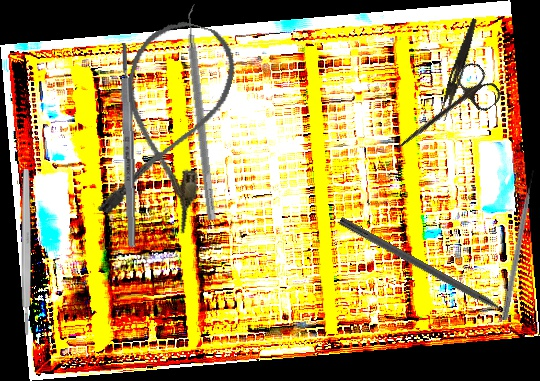Cannula: (90, 11, 245, 236)
Dressing Forceps: (437, 16, 479, 123)
Hook Surgical: (337, 216, 522, 326)
Iris Scissors: (384, 58, 505, 169)
Pusher: (500, 169, 539, 321)
Scalpel Handle: (118, 42, 138, 248), (21, 169, 31, 335)
Spatula Surgical: (180, 3, 226, 221)
